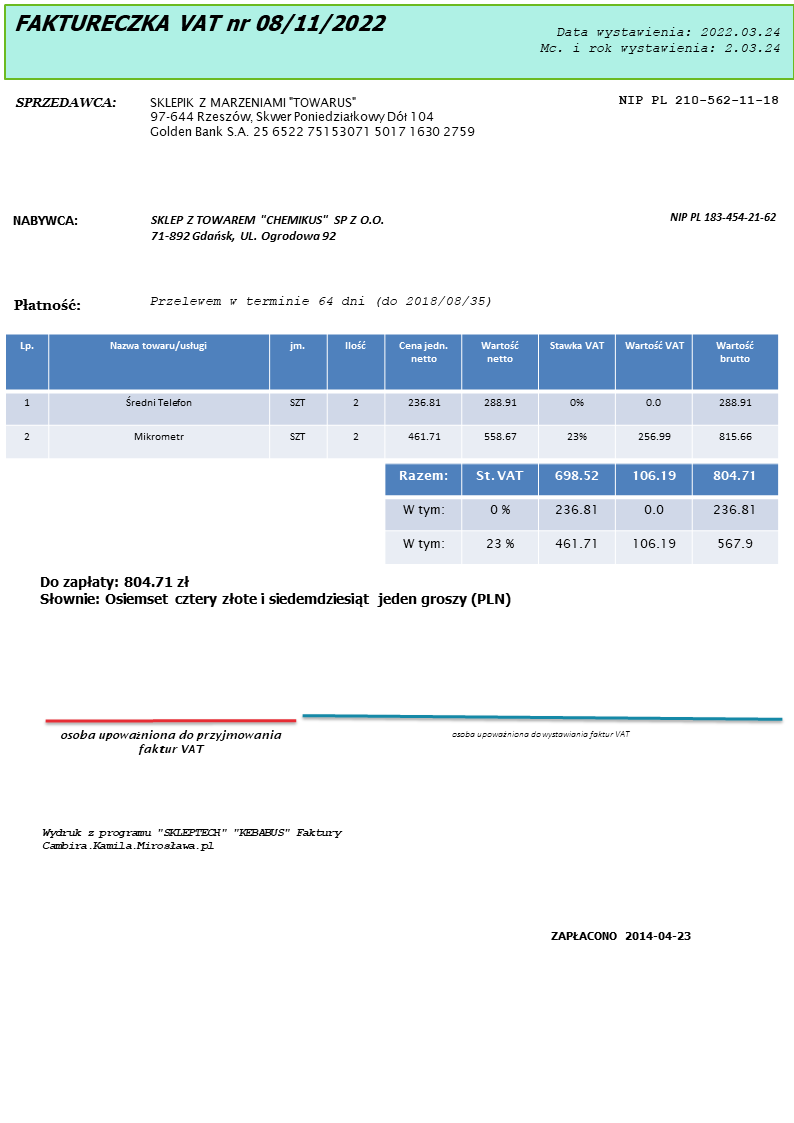Table: (4, 330, 779, 458), (383, 462, 780, 568)
TextBox: (36, 574, 514, 611), (147, 94, 477, 142), (11, 9, 388, 36), (39, 823, 343, 855), (537, 23, 783, 57), (148, 212, 383, 244), (57, 727, 284, 758), (147, 293, 492, 308), (615, 92, 780, 108), (448, 728, 634, 742), (548, 928, 694, 943), (12, 93, 117, 110), (666, 209, 777, 224), (12, 295, 81, 313), (9, 211, 79, 228)
